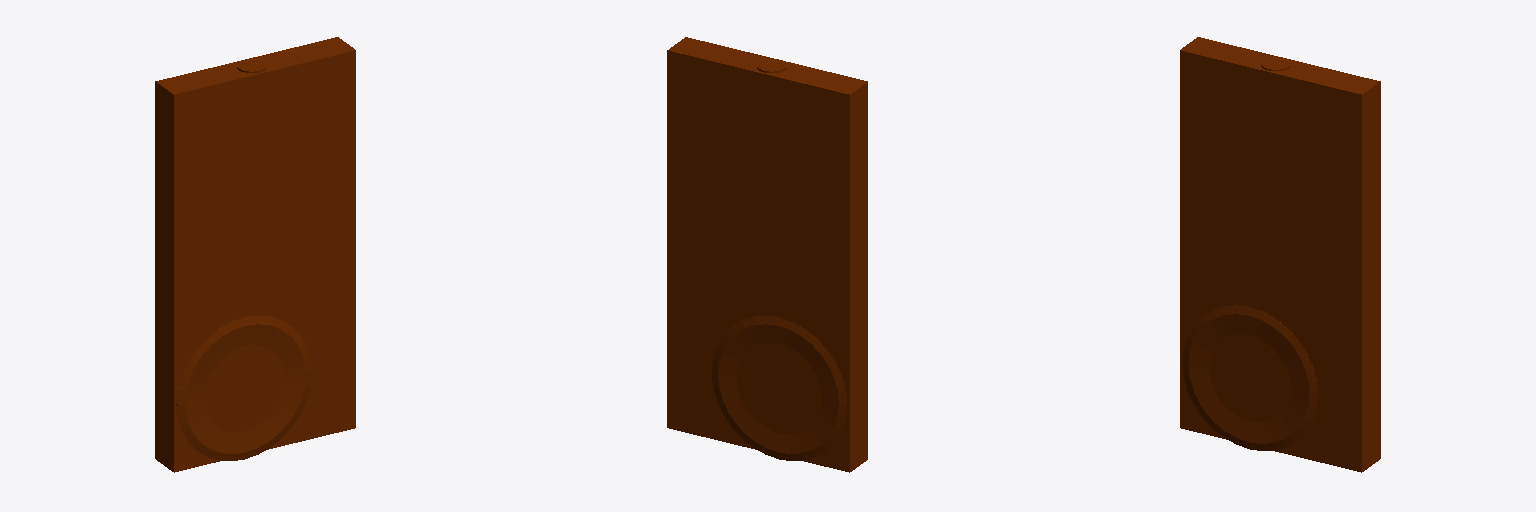
The model's file is key.obj.
3 views of the same model, side by side, from view 1: azimuth 30°, elevation 25°; view 2: azimuth 150°, elevation 25°; view 3: azimuth 330°, elevation 25° (orthographic).
Visible parts, largest first — view 1: UCX_key_00, key; view 2: UCX_key_00, key; view 3: UCX_key_00, key.
Boxes of the visible parts, x1=… form: UCX_key_00: x1=155, y1=37, x2=355, y2=472; key: x1=176, y1=59, x2=311, y2=460; UCX_key_00: x1=667, y1=37, x2=867, y2=472; key: x1=712, y1=59, x2=846, y2=460; UCX_key_00: x1=1180, y1=37, x2=1380, y2=472; key: x1=1182, y1=57, x2=1317, y2=450.
Bounding box in the file's own units: 0.7017 × 1.41 × 0.1363.